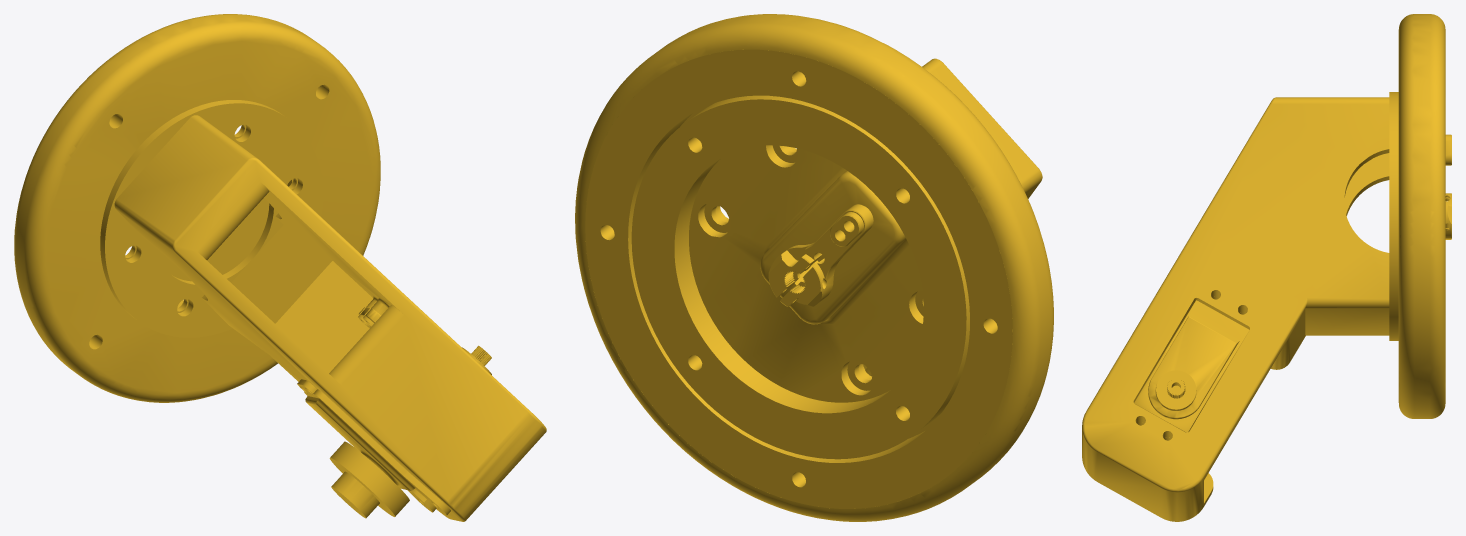
Rendered from main_yaw_link.glb.
The picture shows the model from 3 angles, left to right: view 1: azimuth 30°, elevation 25°; view 2: azimuth 150°, elevation 25°; view 3: azimuth 270°, elevation 25°; orthographic projection. The views are drawn at different scales.
Visible parts, largest first — view 1: main_yaw_link; view 2: main_yaw_link; view 3: main_yaw_link.
Boxes of the visible parts, <box> form: main_yaw_link: <box>14,14,546,521</box>; main_yaw_link: <box>575,14,1053,521</box>; main_yaw_link: <box>1082,14,1451,521</box>.
Bounding box in the file's own units: 0.1411 × 0.1517 × 0.1187.
